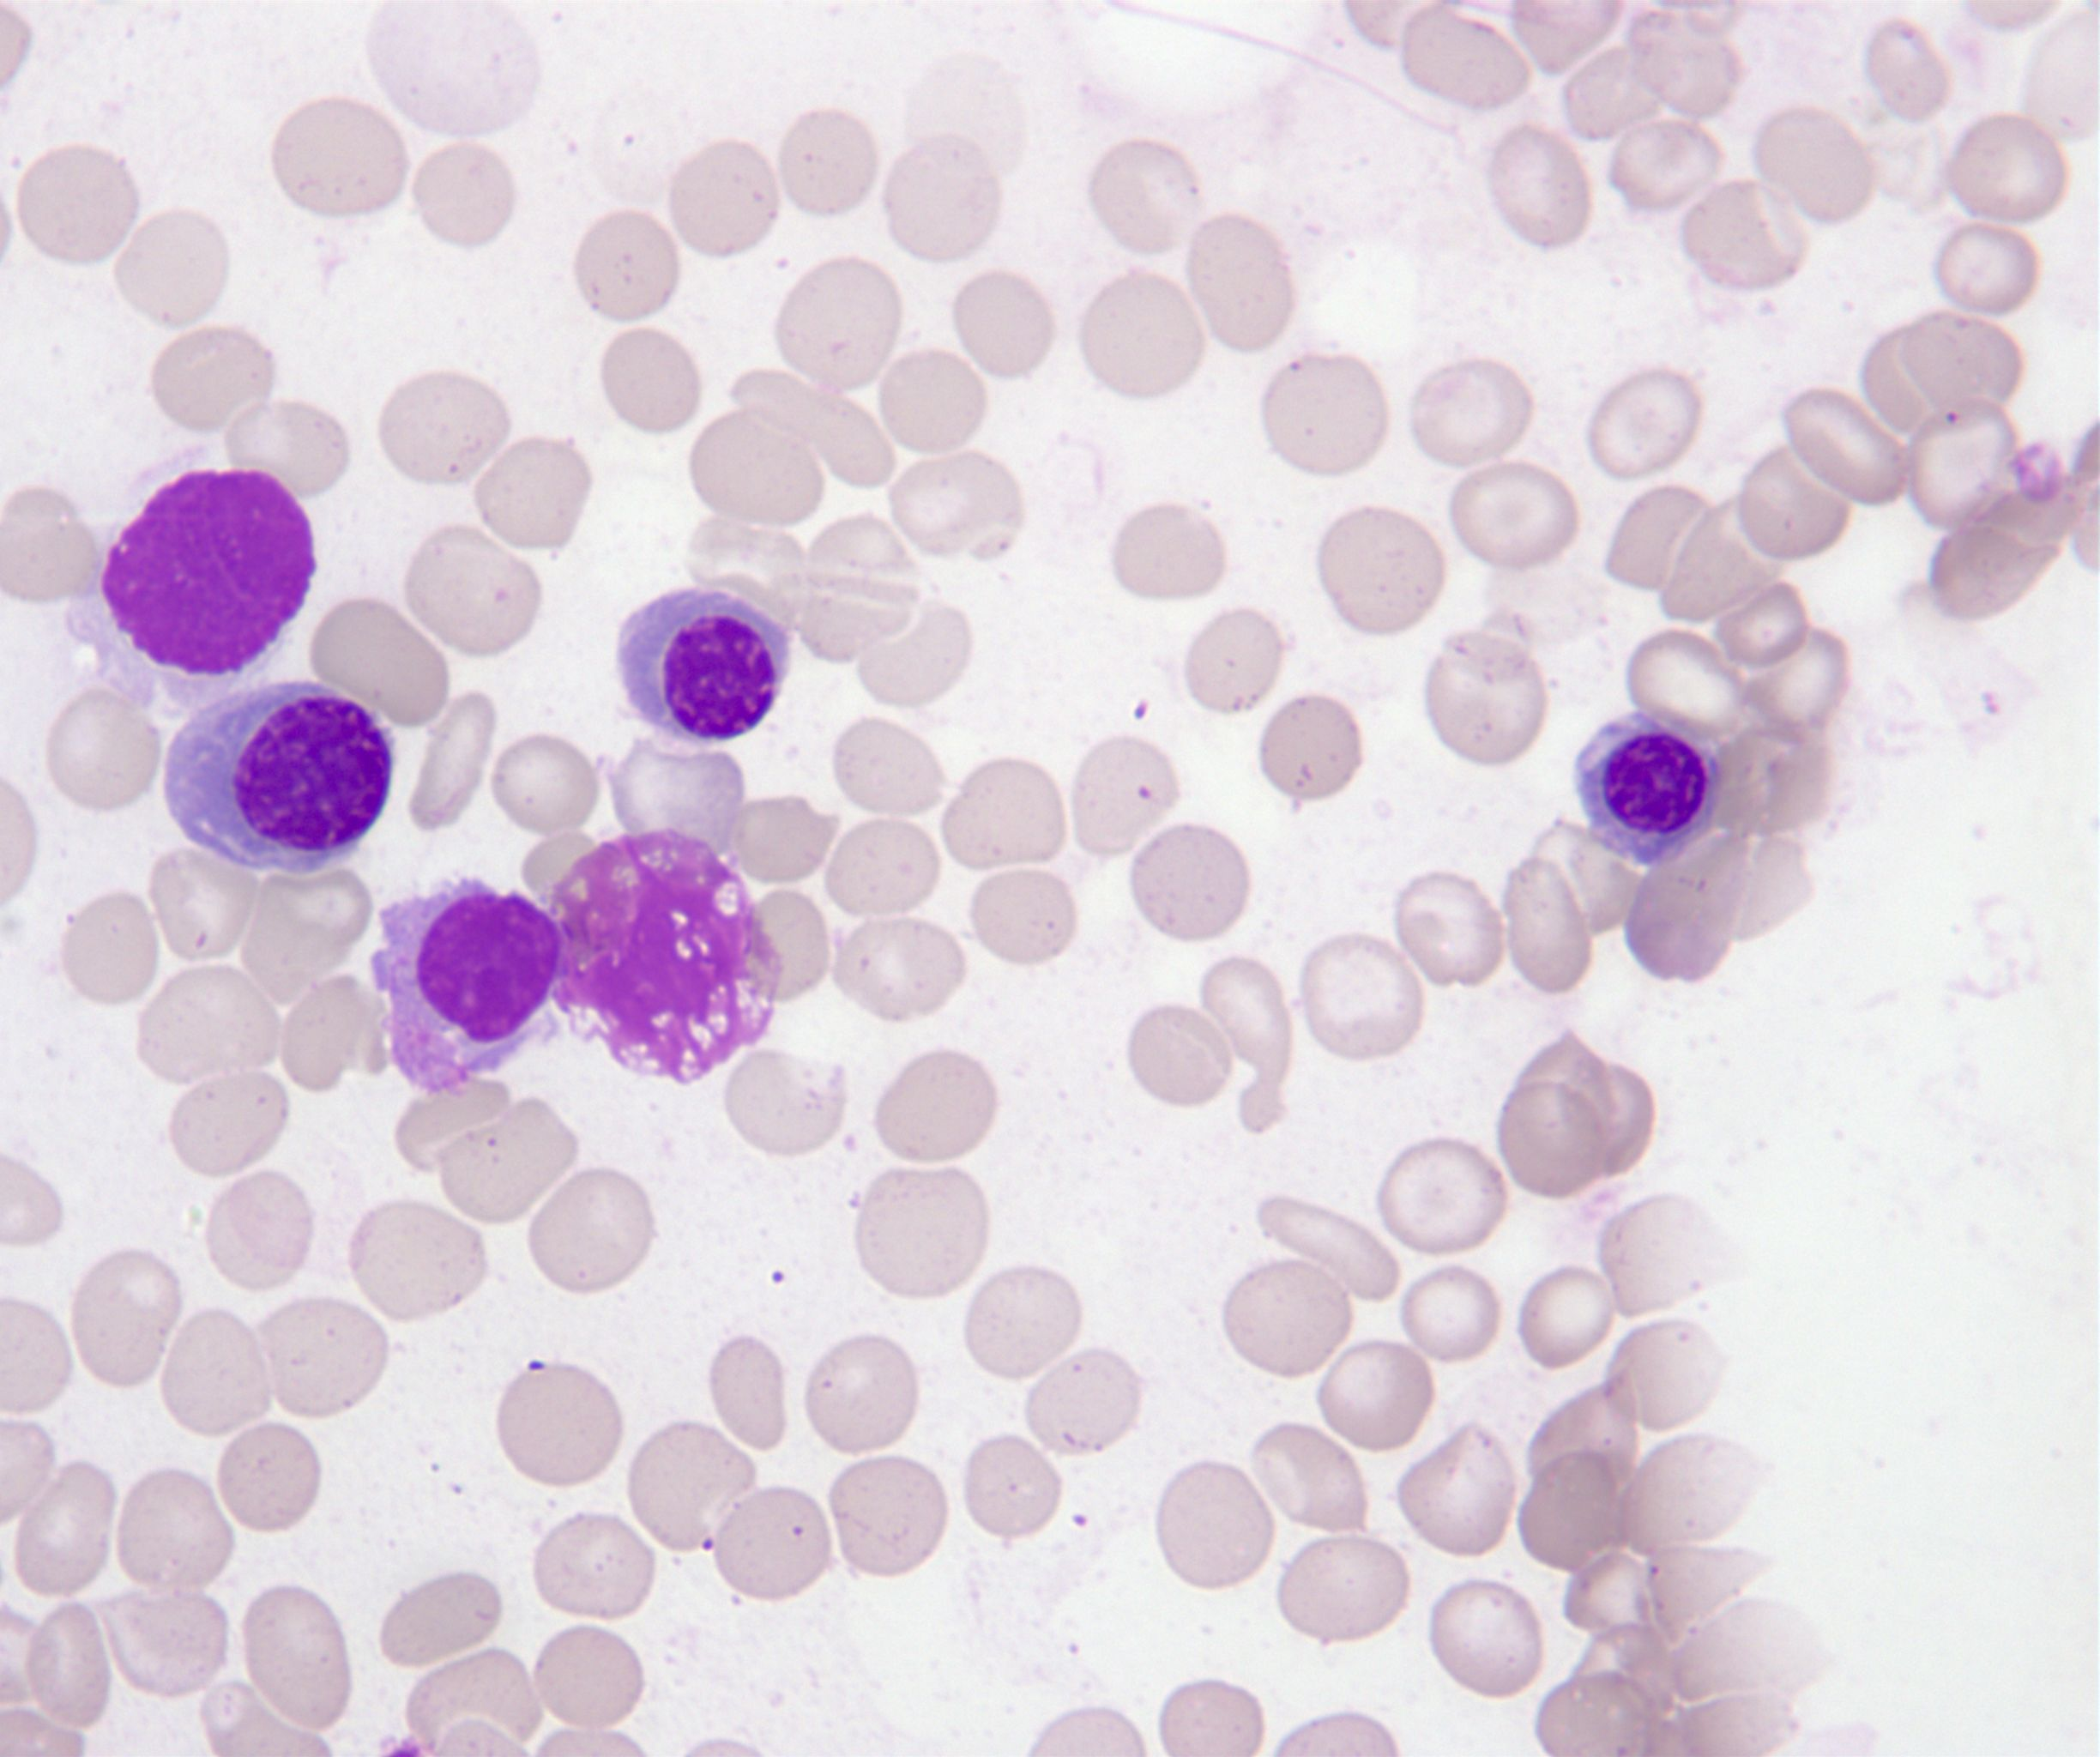23: (166, 682, 392, 874), (619, 588, 788, 742), (1573, 712, 1723, 864)
x: (546, 831, 781, 1085), (101, 471, 316, 675), (373, 879, 560, 1099)
